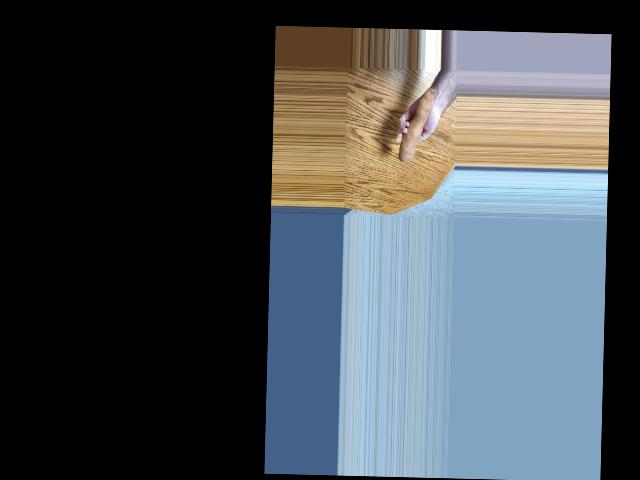sweet_potato: (397, 86, 437, 164)
